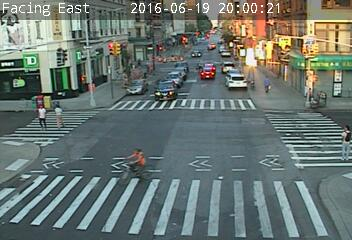neg: (122, 137, 158, 186), (67, 188, 87, 215), (156, 89, 174, 114), (164, 198, 181, 221), (212, 111, 227, 132), (217, 187, 232, 206), (24, 140, 38, 159), (30, 49, 44, 68), (202, 89, 216, 107), (247, 167, 260, 184), (131, 29, 144, 46), (127, 81, 139, 98), (236, 19, 248, 34), (313, 5, 324, 20), (277, 106, 288, 121), (82, 51, 93, 64), (215, 162, 224, 174), (274, 24, 283, 36), (87, 127, 96, 139), (188, 25, 197, 36)
pos: (328, 117, 351, 161), (29, 99, 53, 131), (48, 102, 67, 127), (259, 73, 276, 95)
